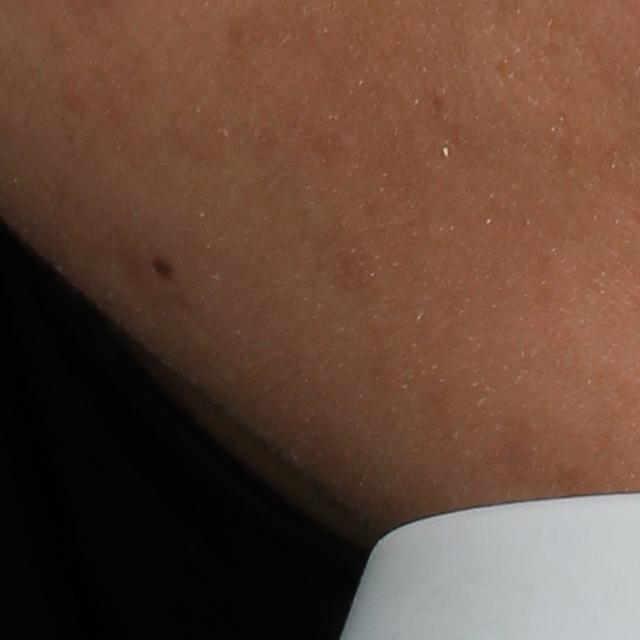nevus: (150, 261, 174, 280)
